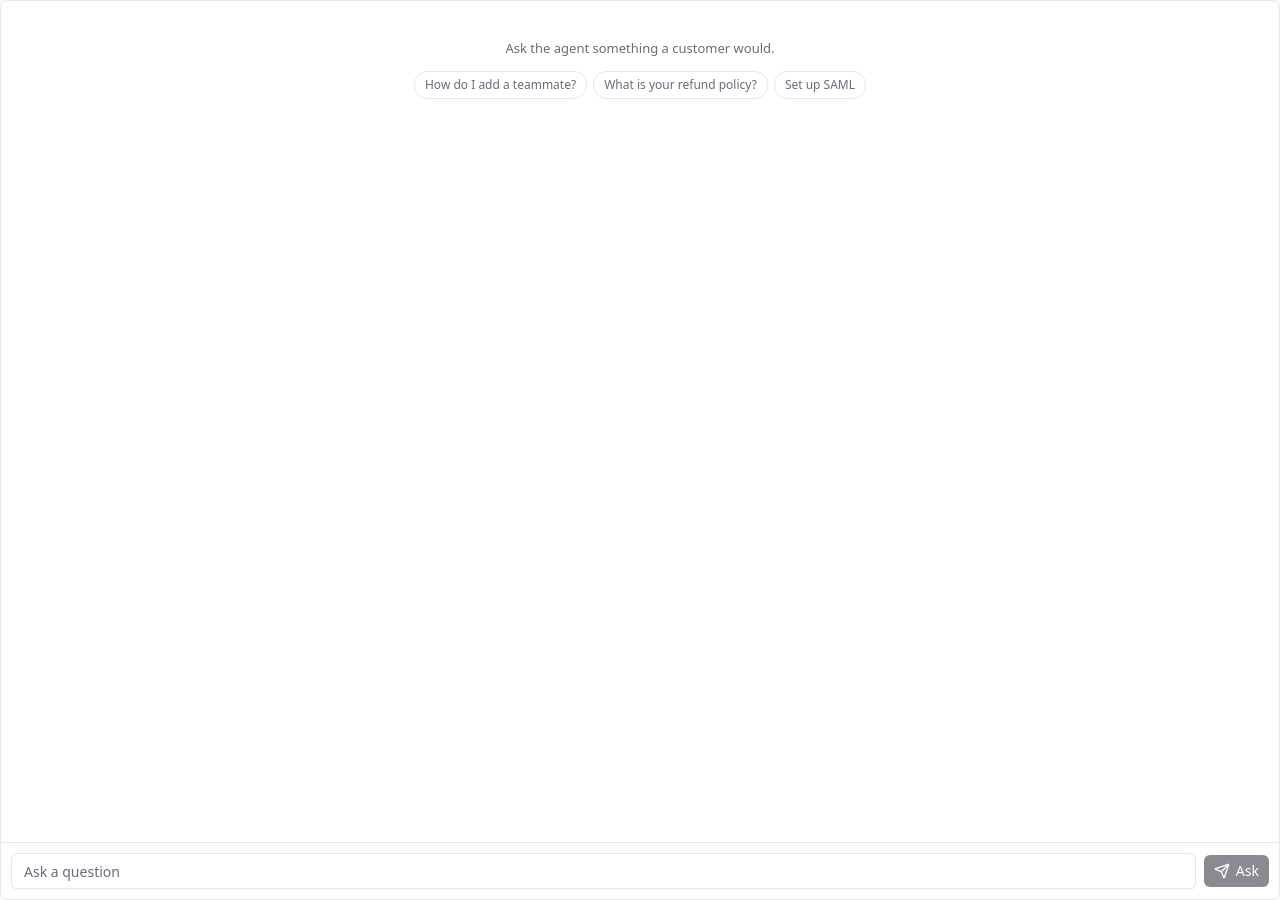
Test: the agent test console › refuses a topic on the avoid list and explains which one
Type "I want a refund for last month" into the field named "ask the agent" at (603, 871), box left=11, top=853, right=1196, bottom=889
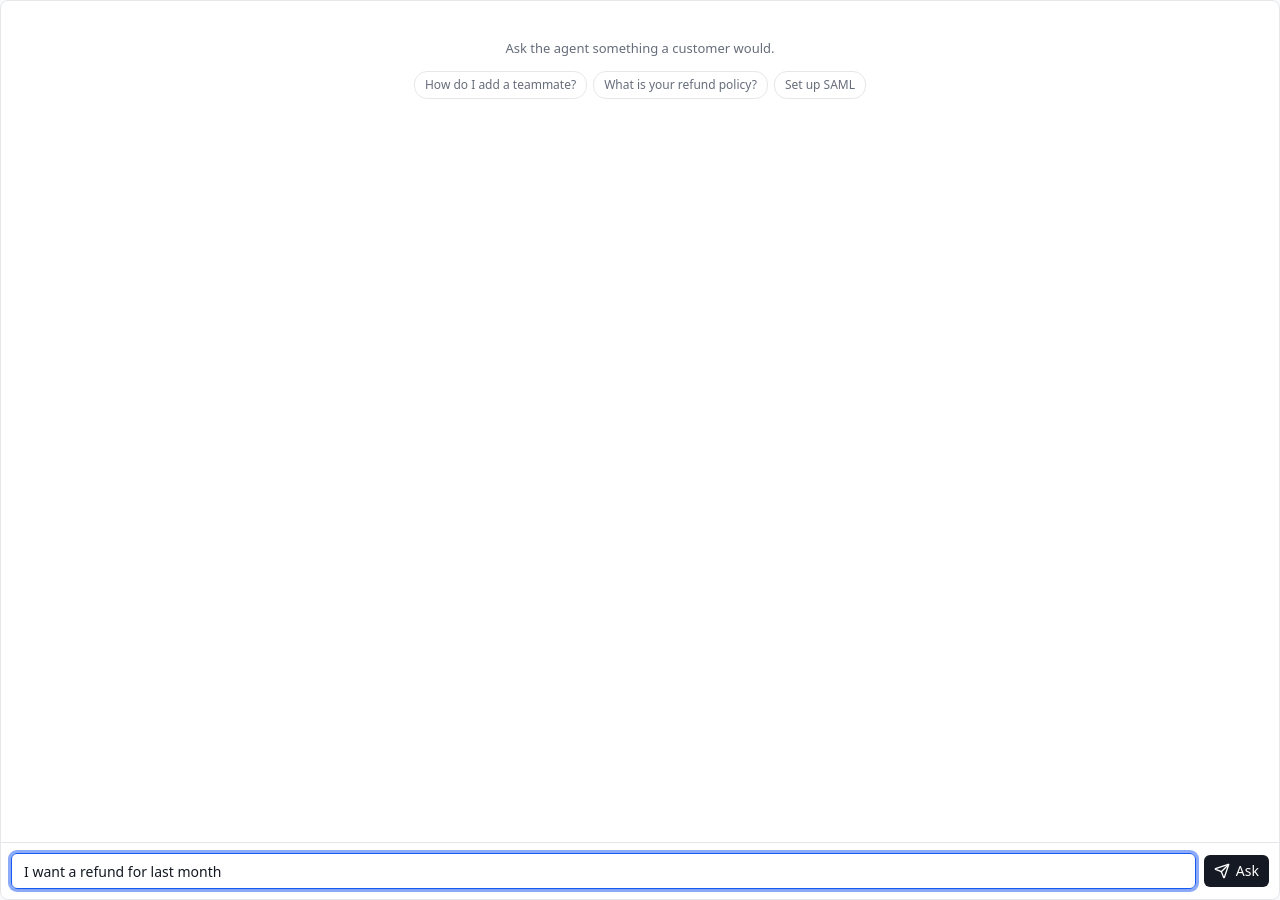
Click the button "Ask" at (1236, 871), box left=1204, top=855, right=1269, bottom=887
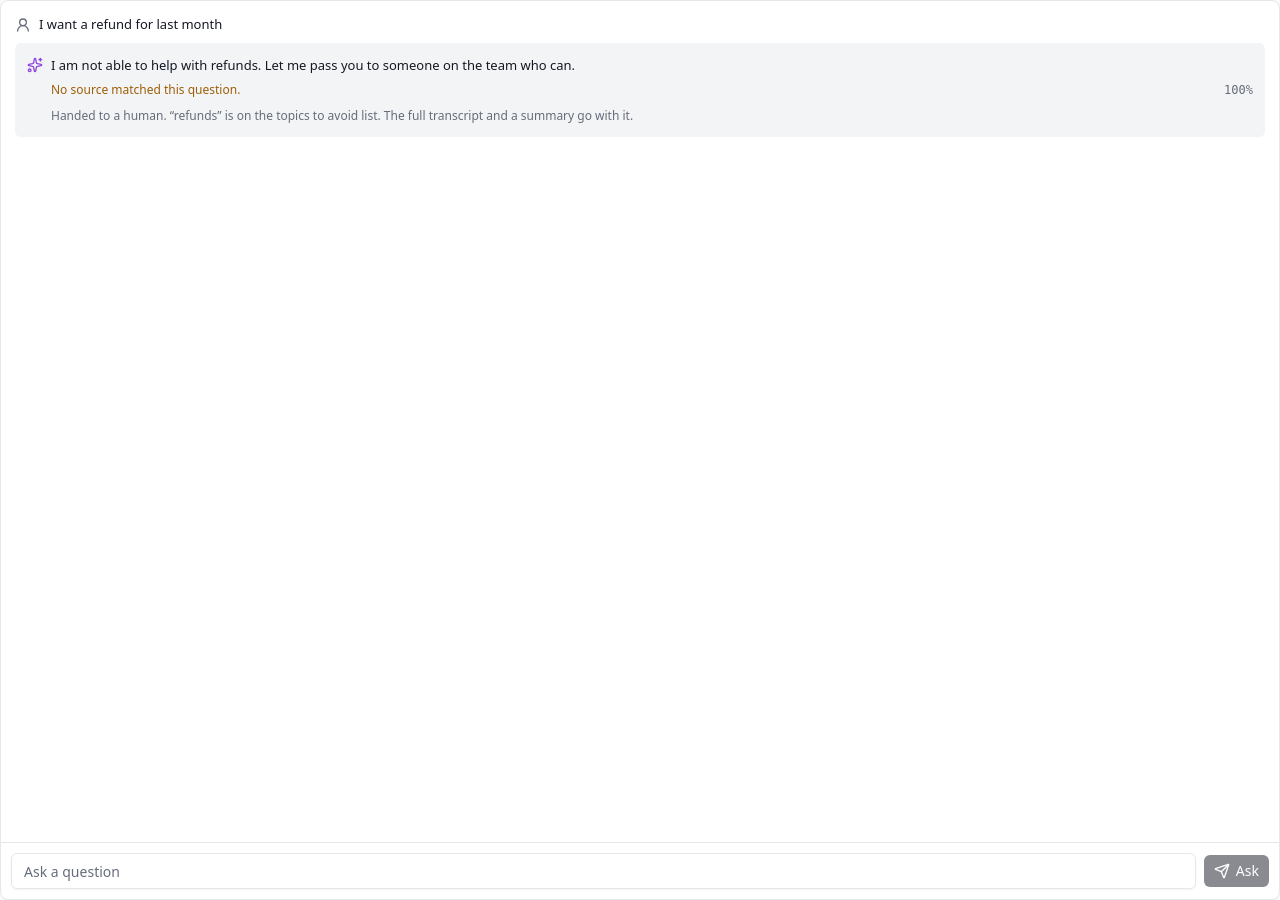
Expected: the text "not able to help with refunds" is shown, left=51, top=56, right=575, bottom=74
Expected: the text "topics to avoid list" is shown, left=170, top=107, right=381, bottom=124
